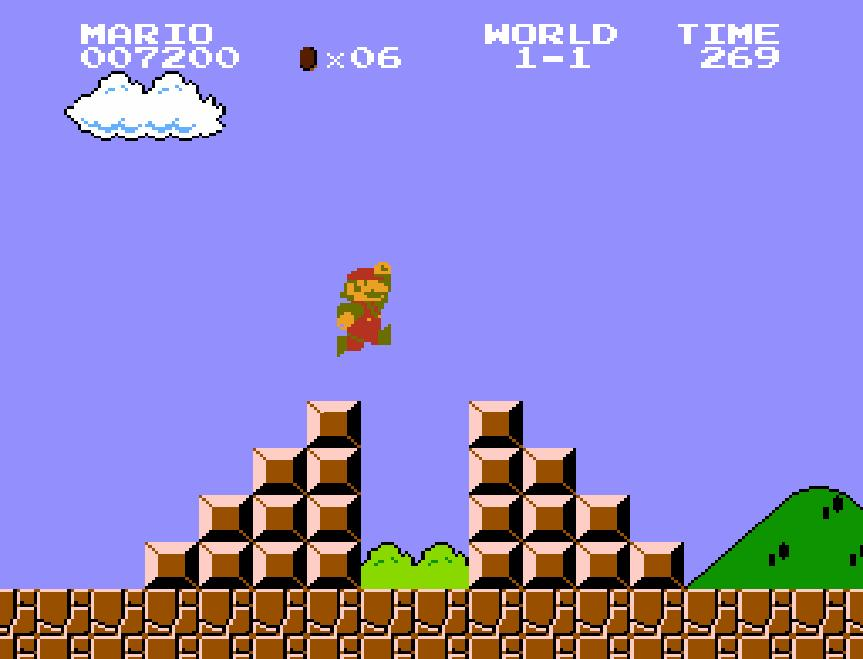big_mario: (335, 260, 393, 358)
